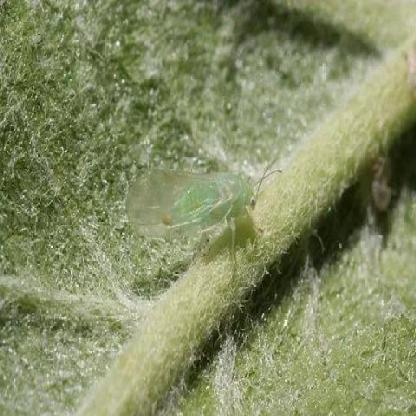aphid: (118, 145, 276, 285)
